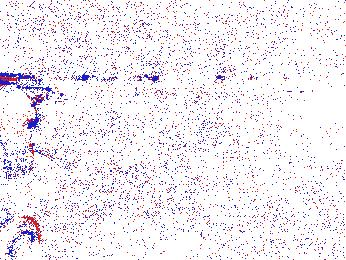flame jellyfish: (1, 84, 41, 179), (185, 188, 239, 244), (1, 215, 49, 260)
